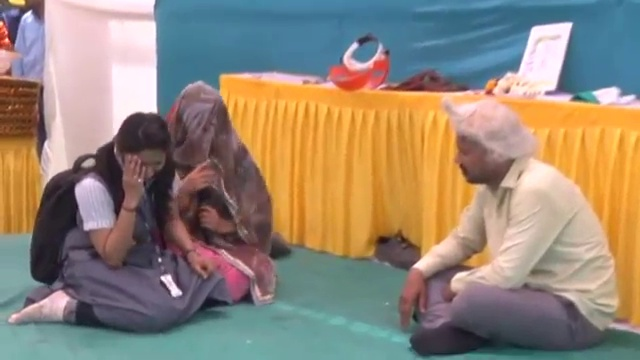helmet: (0, 46, 21, 76)
helmet_off: (443, 100, 529, 187), (166, 86, 221, 153), (114, 111, 166, 180)
person: (398, 99, 620, 352), (8, 112, 223, 337), (170, 99, 276, 306), (9, 2, 48, 84)
